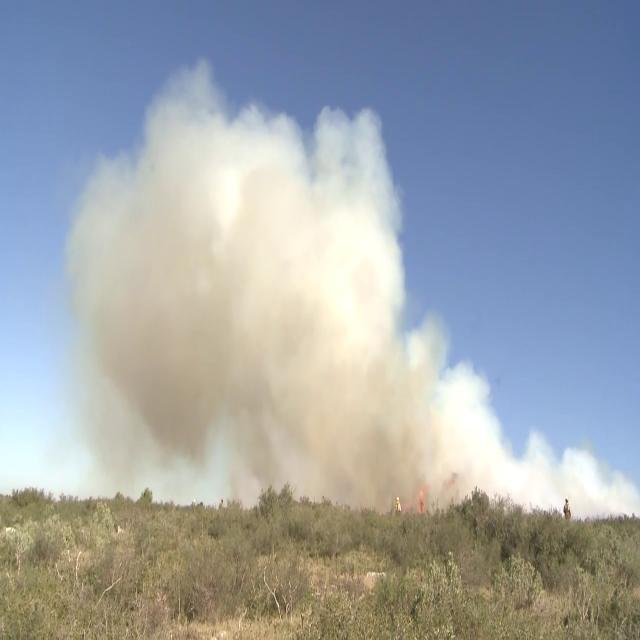Smoke: (56, 65, 498, 519)
